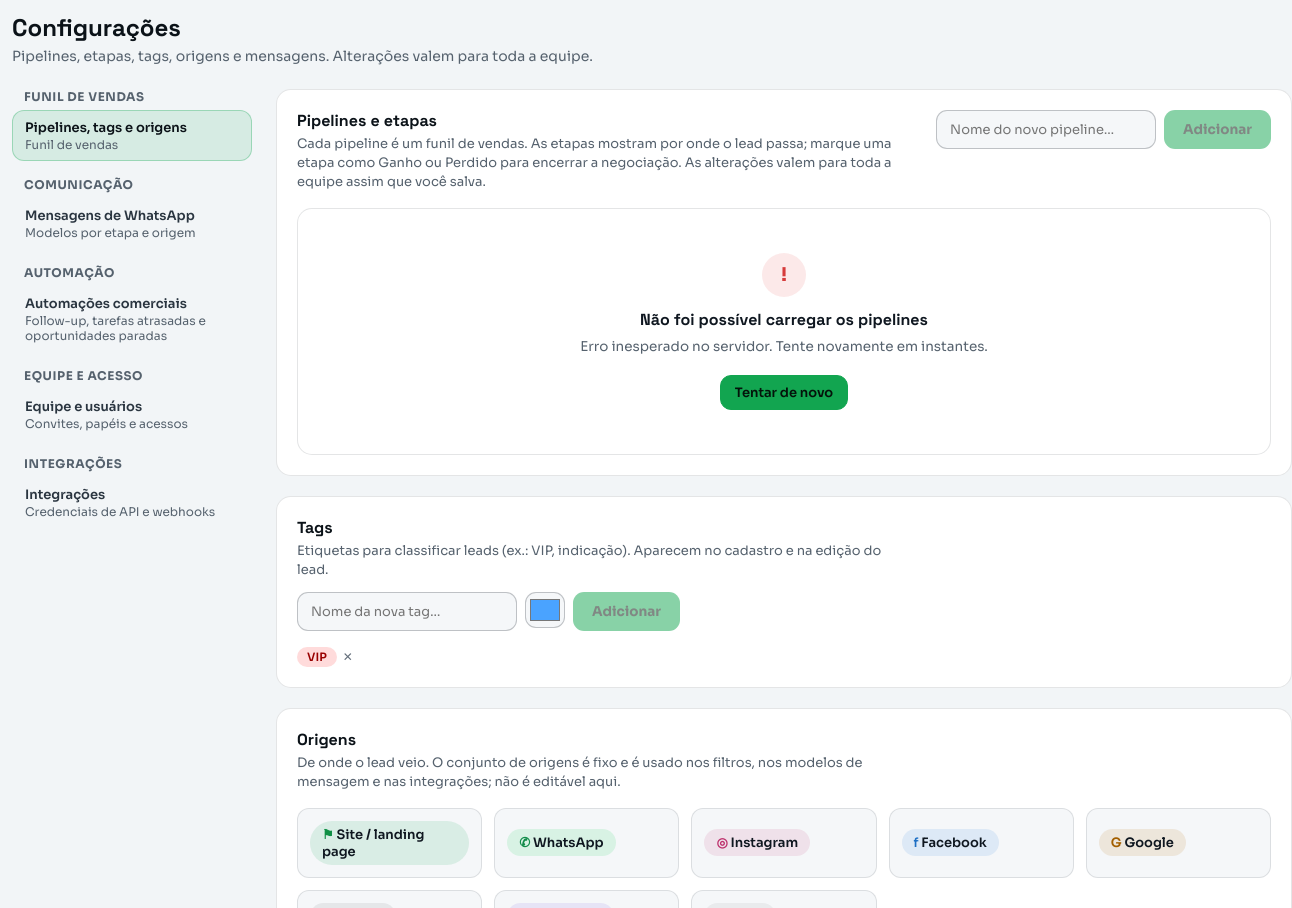
Scenario: F-24 pipelines › erro ao carregar os pipelines mostra aviso com 'Tentar de novo'
Expected: the text "Não foi possível carregar os pipelines" is shown once, x1=640 y1=308 x2=928 y2=330
Click the button "Tentar de novo".
click(784, 393)  # box x1=720 y1=375 x2=848 y2=410
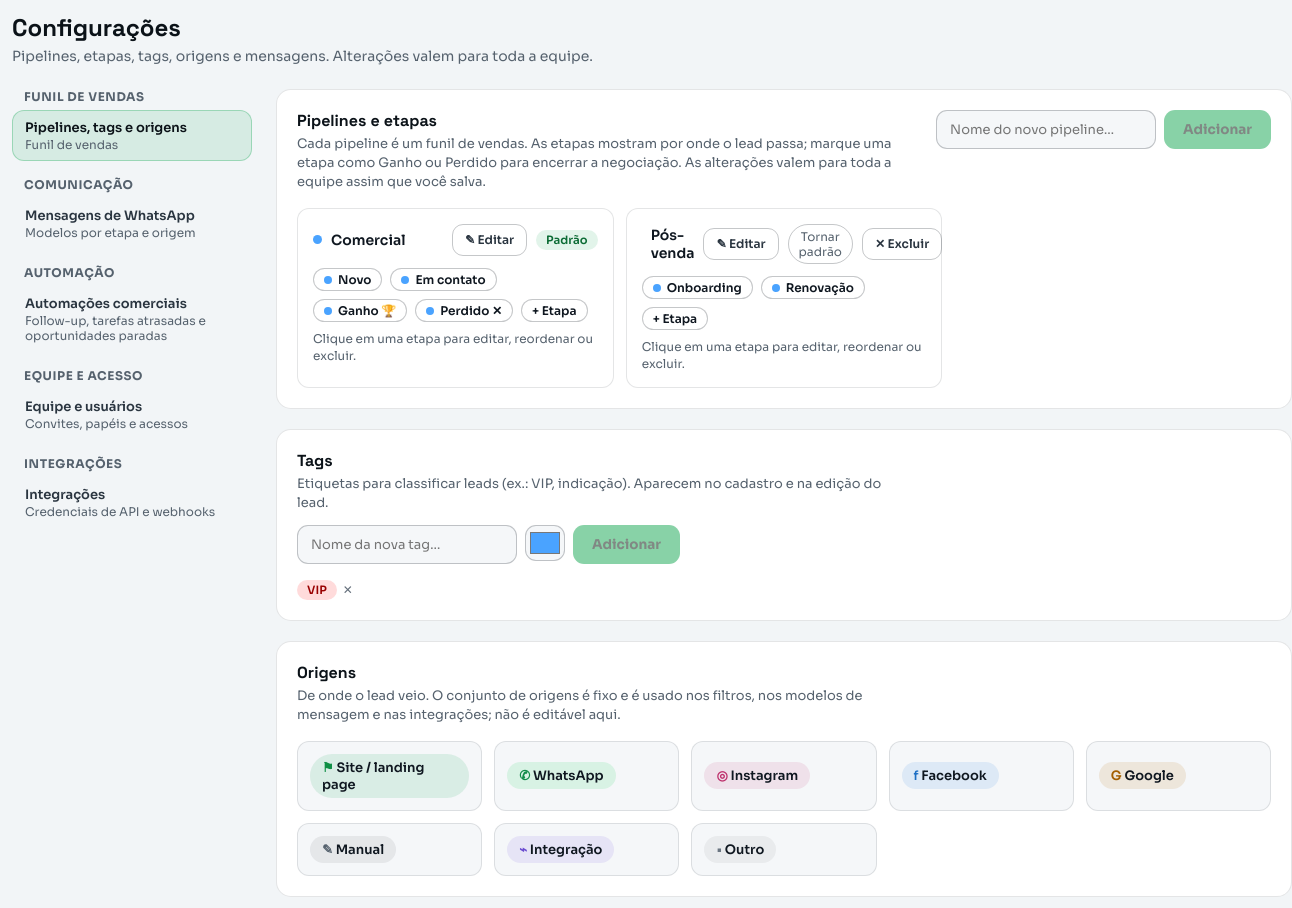
Result: the text "Comercial" is shown at x1=331 y1=230 x2=406 y2=248
